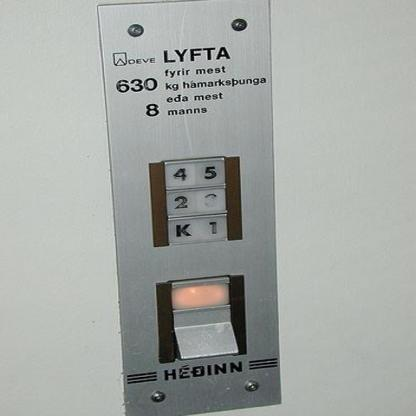1: (194, 211, 232, 242)
2: (161, 186, 199, 218)
3: (193, 184, 231, 214)
4: (160, 158, 198, 190)
5: (191, 156, 228, 187)
K: (164, 216, 201, 247)
